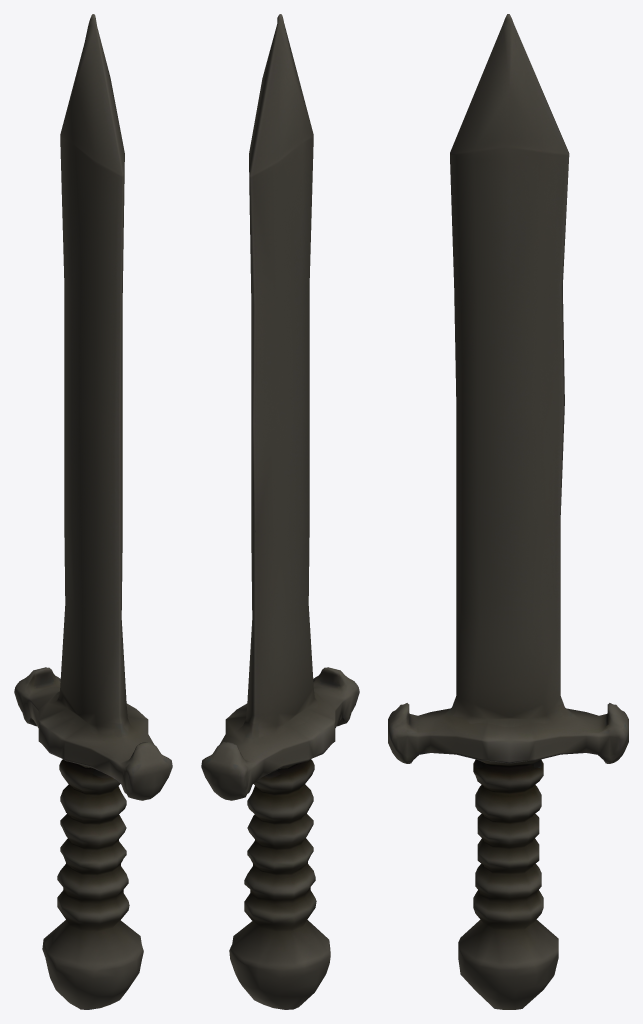
Rendered from iron_sword.glb.
3 views of the same model, side by side, from view 1: azimuth 30°, elevation 25°; view 2: azimuth 150°, elevation 25°; view 3: azimuth 270°, elevation 25° (orthographic).
Visible parts, largest first — view 1: base_model_path; view 2: base_model_path; view 3: base_model_path.
Boxes of the visible parts, left/top/right/bottom form: base_model_path: left=14, top=14, right=172, bottom=1009; base_model_path: left=201, top=14, right=359, bottom=1009; base_model_path: left=388, top=14, right=628, bottom=1009.
Bounding box in the file's own units: 0.092 × 0.9997 × 0.2211.
Materials: 1 (1 with a texture image).
